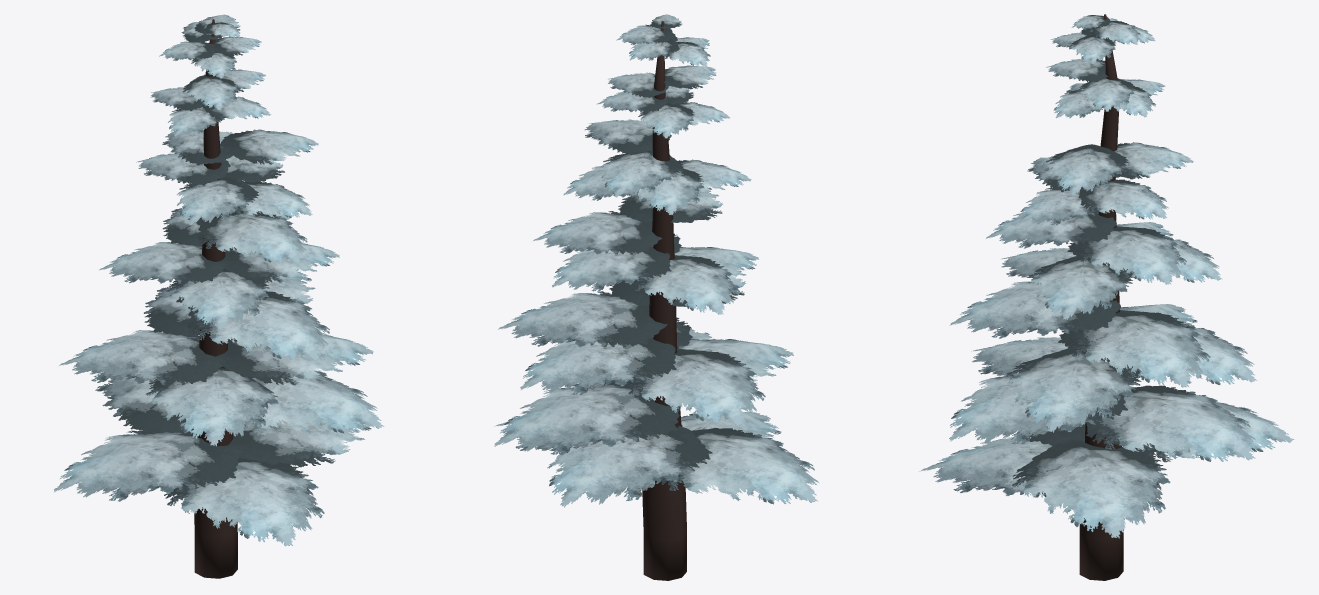
The model's file is Treefixedmaybe.fbx.
The picture shows the model from 3 angles, left to right: view 1: azimuth 30°, elevation 25°; view 2: azimuth 150°, elevation 25°; view 3: azimuth 270°, elevation 25°; orthographic projection.
Visible parts, largest first — view 1: group2_FirBrance.035; view 2: group2_FirBrance.035; view 3: group2_FirBrance.035.
Part boxes in pixels (<box>): group2_FirBrance.035: <box>54,14,384,578</box>; group2_FirBrance.035: <box>494,14,818,580</box>; group2_FirBrance.035: <box>919,14,1294,580</box>.
Size of the model in its own units: 328 by 326 by 492.
